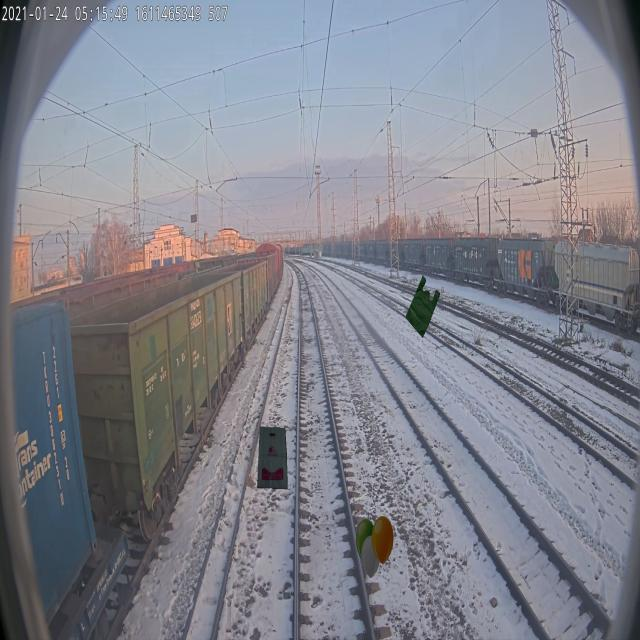balloon: (355, 516, 394, 580)
plastic bag: (405, 275, 440, 339), (257, 426, 288, 490)
